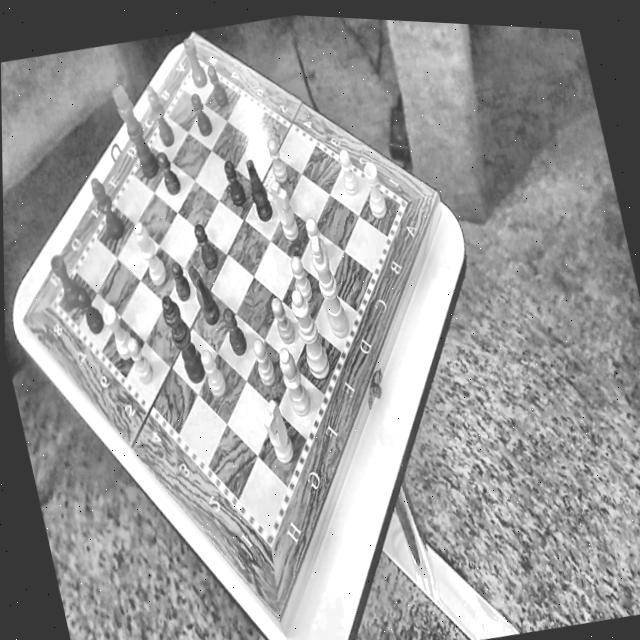chessboard: (58, 64, 396, 528)
